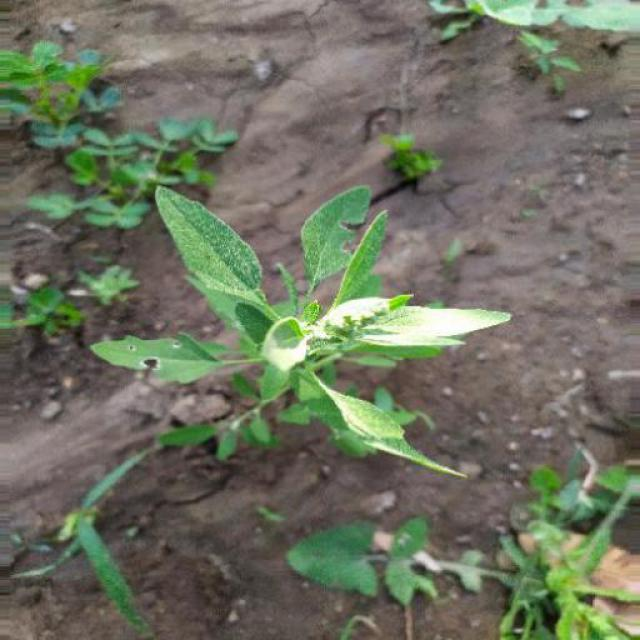weed: (81, 175, 516, 506)
